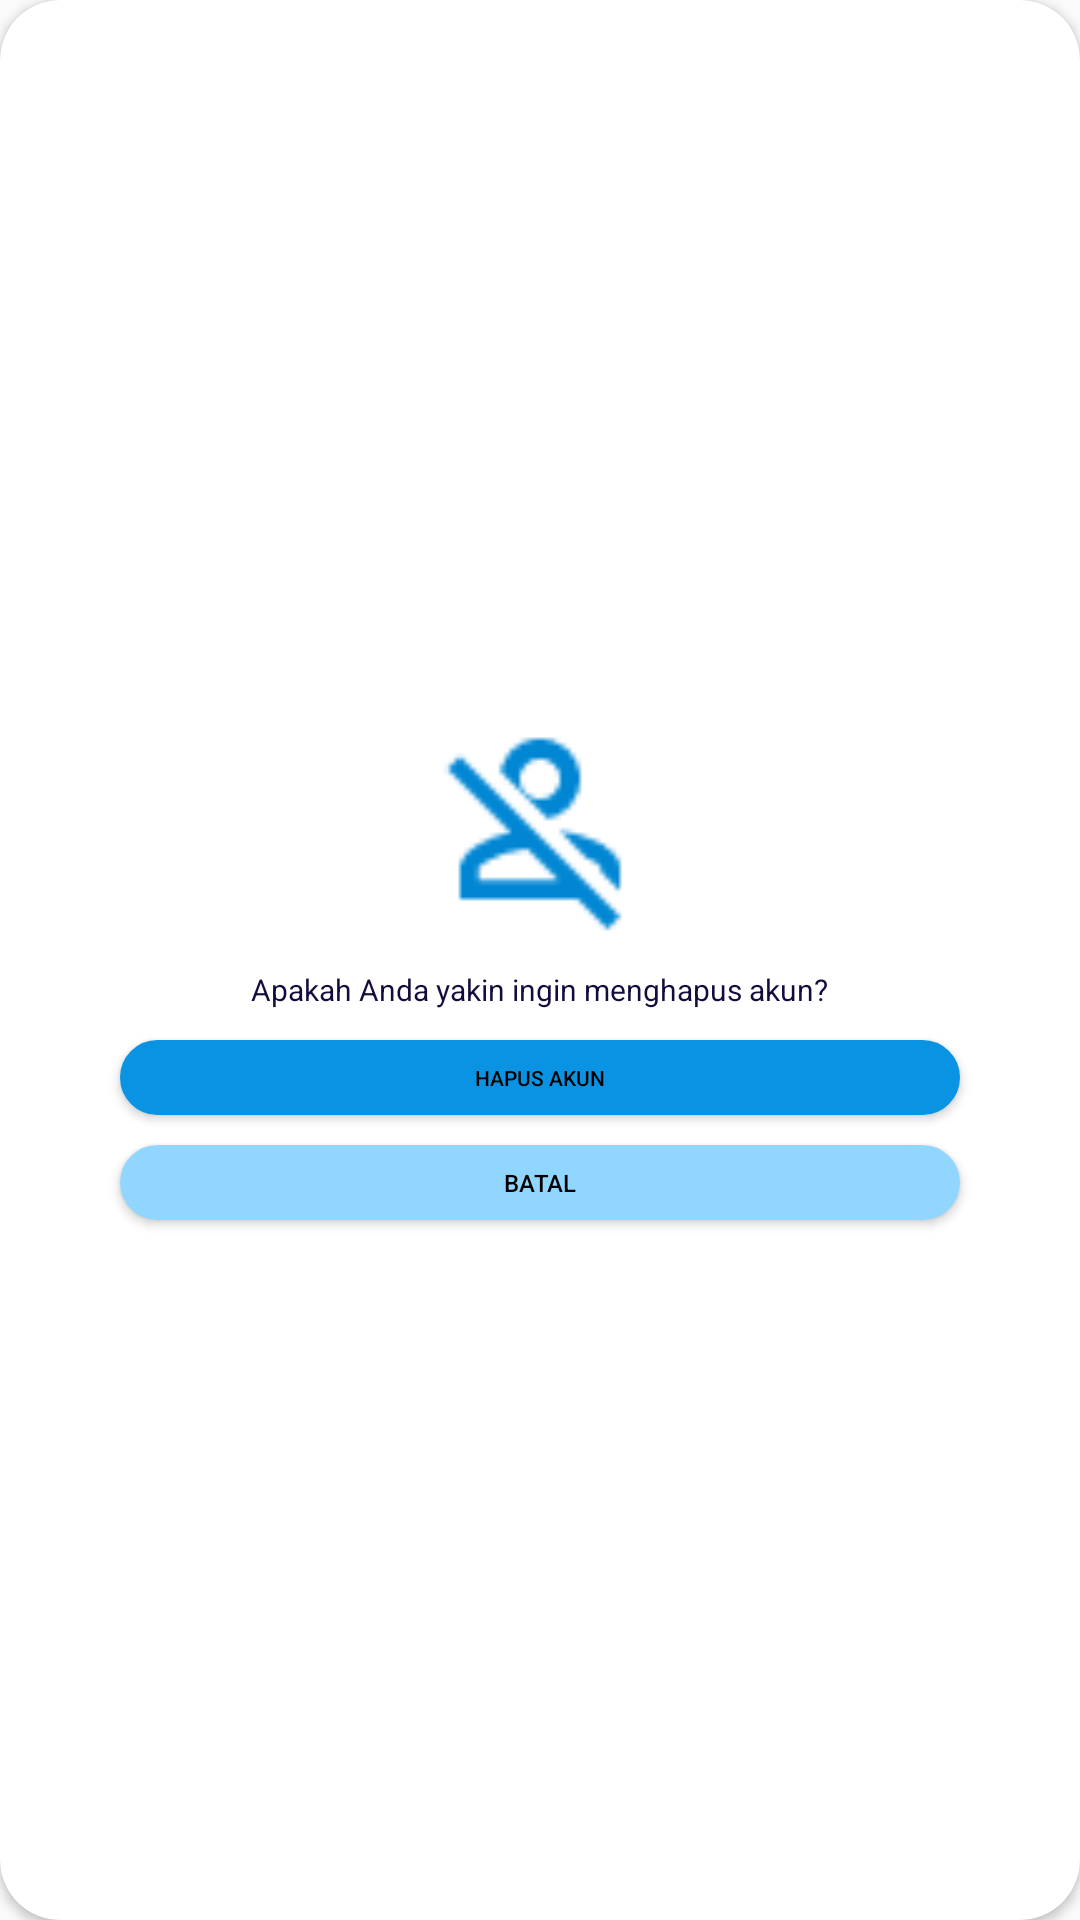

Icons on this 1080px x 1920px Android screen, each with its box as (x1,y1,x2,y2):
delete account: (446,737,622,931)
